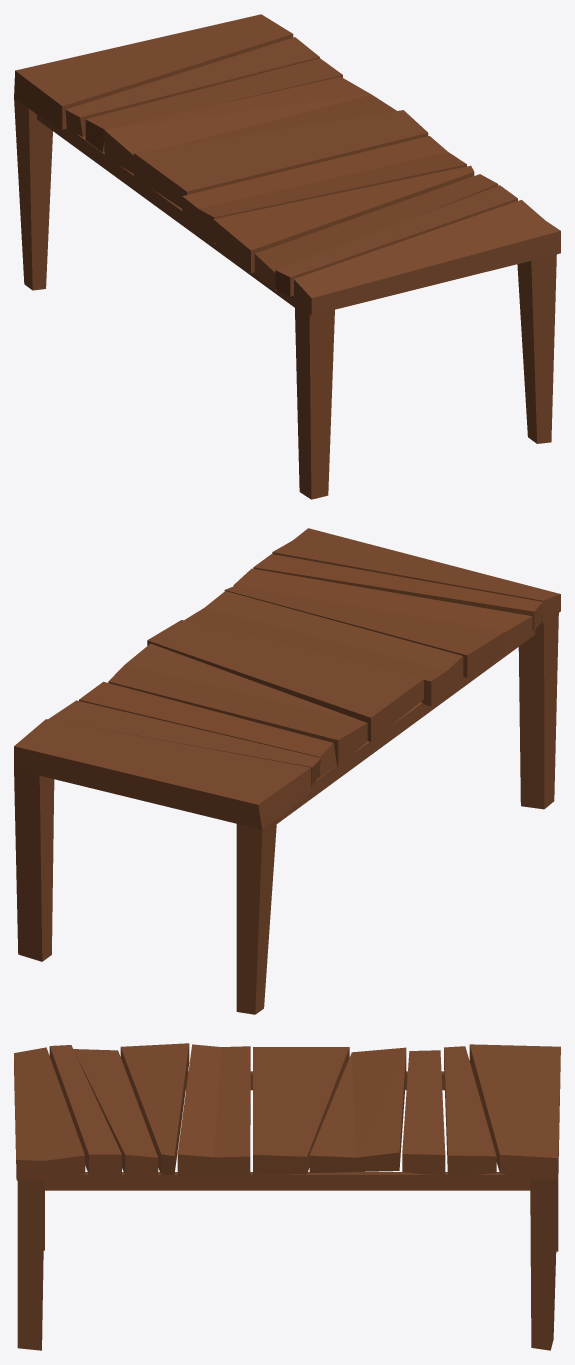
The model's file is tableplank02.gltf.
The picture shows the model from 3 angles, top to bottom: view 1: azimuth 30°, elevation 25°; view 2: azimuth 150°, elevation 25°; view 3: azimuth 270°, elevation 25°; orthographic projection. The views are drawn at different scales.
Parts seen in each view (by area): view 1: Cube; view 2: Cube; view 3: Cube.
Boxes of the visible parts, x1=… form: Cube: x1=14, y1=14, x2=560, y2=499; Cube: x1=14, y1=528, x2=560, y2=1014; Cube: x1=14, y1=1043, x2=560, y2=1350.
Bounding box in the file's own units: 1 × 0.8001 × 2.02.
1 material, 1 textured.
